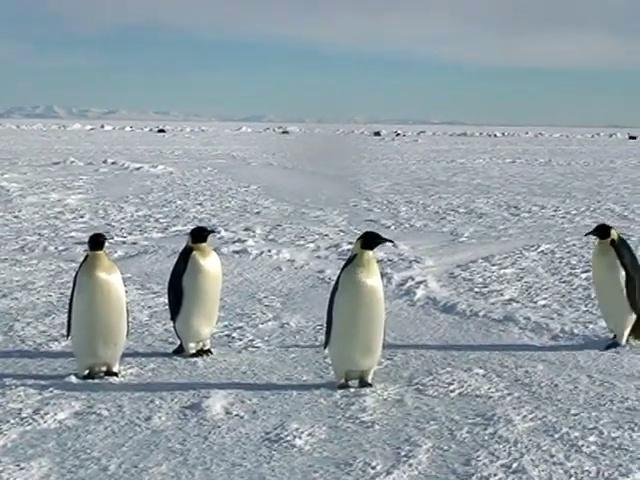animal: (324, 231, 393, 387)
